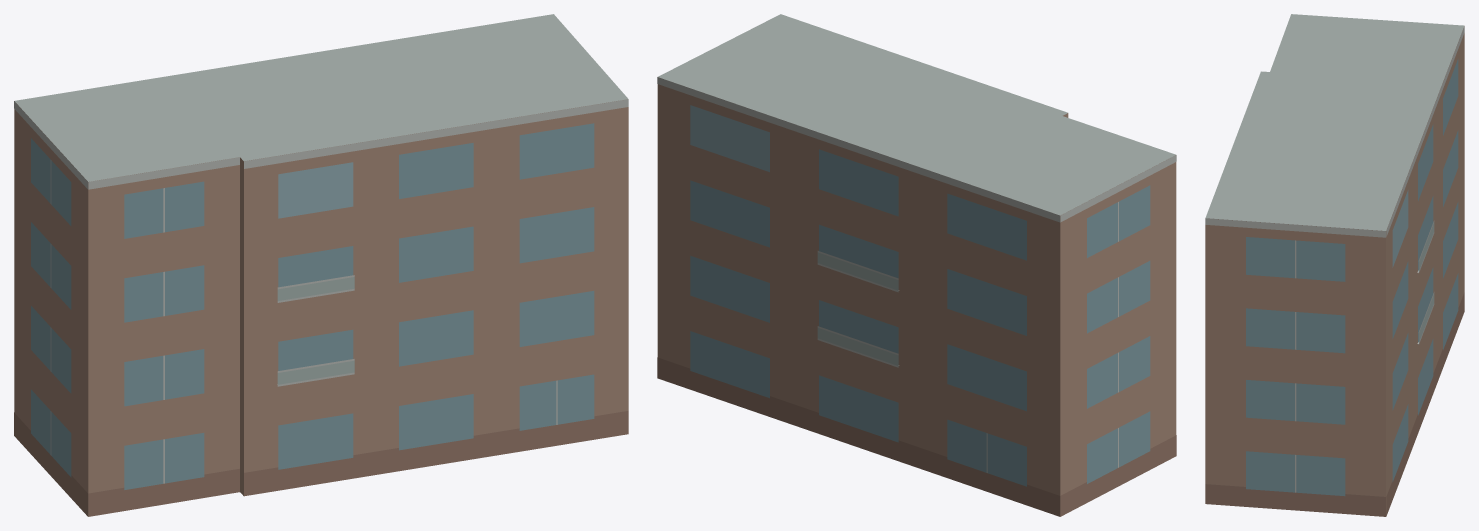
File: survey-upis-32686672.glb
3 renders of one model, left to right at view 1: azimuth 30°, elevation 25°; view 2: azimuth 150°, elevation 25°; view 3: azimuth 270°, elevation 25°, orthographic. The views are drawn at different scales.
Visible parts, largest first — view 1: survey-upis-32686672.tmp; view 2: survey-upis-32686672.tmp; view 3: survey-upis-32686672.tmp.
Part boxes in pixels (<box>): survey-upis-32686672.tmp: <box>14,14,628,516</box>; survey-upis-32686672.tmp: <box>657,14,1176,516</box>; survey-upis-32686672.tmp: <box>1205,14,1464,516</box>.
Bounding box in the file's own units: 17.08 × 10.48 × 8.62.
